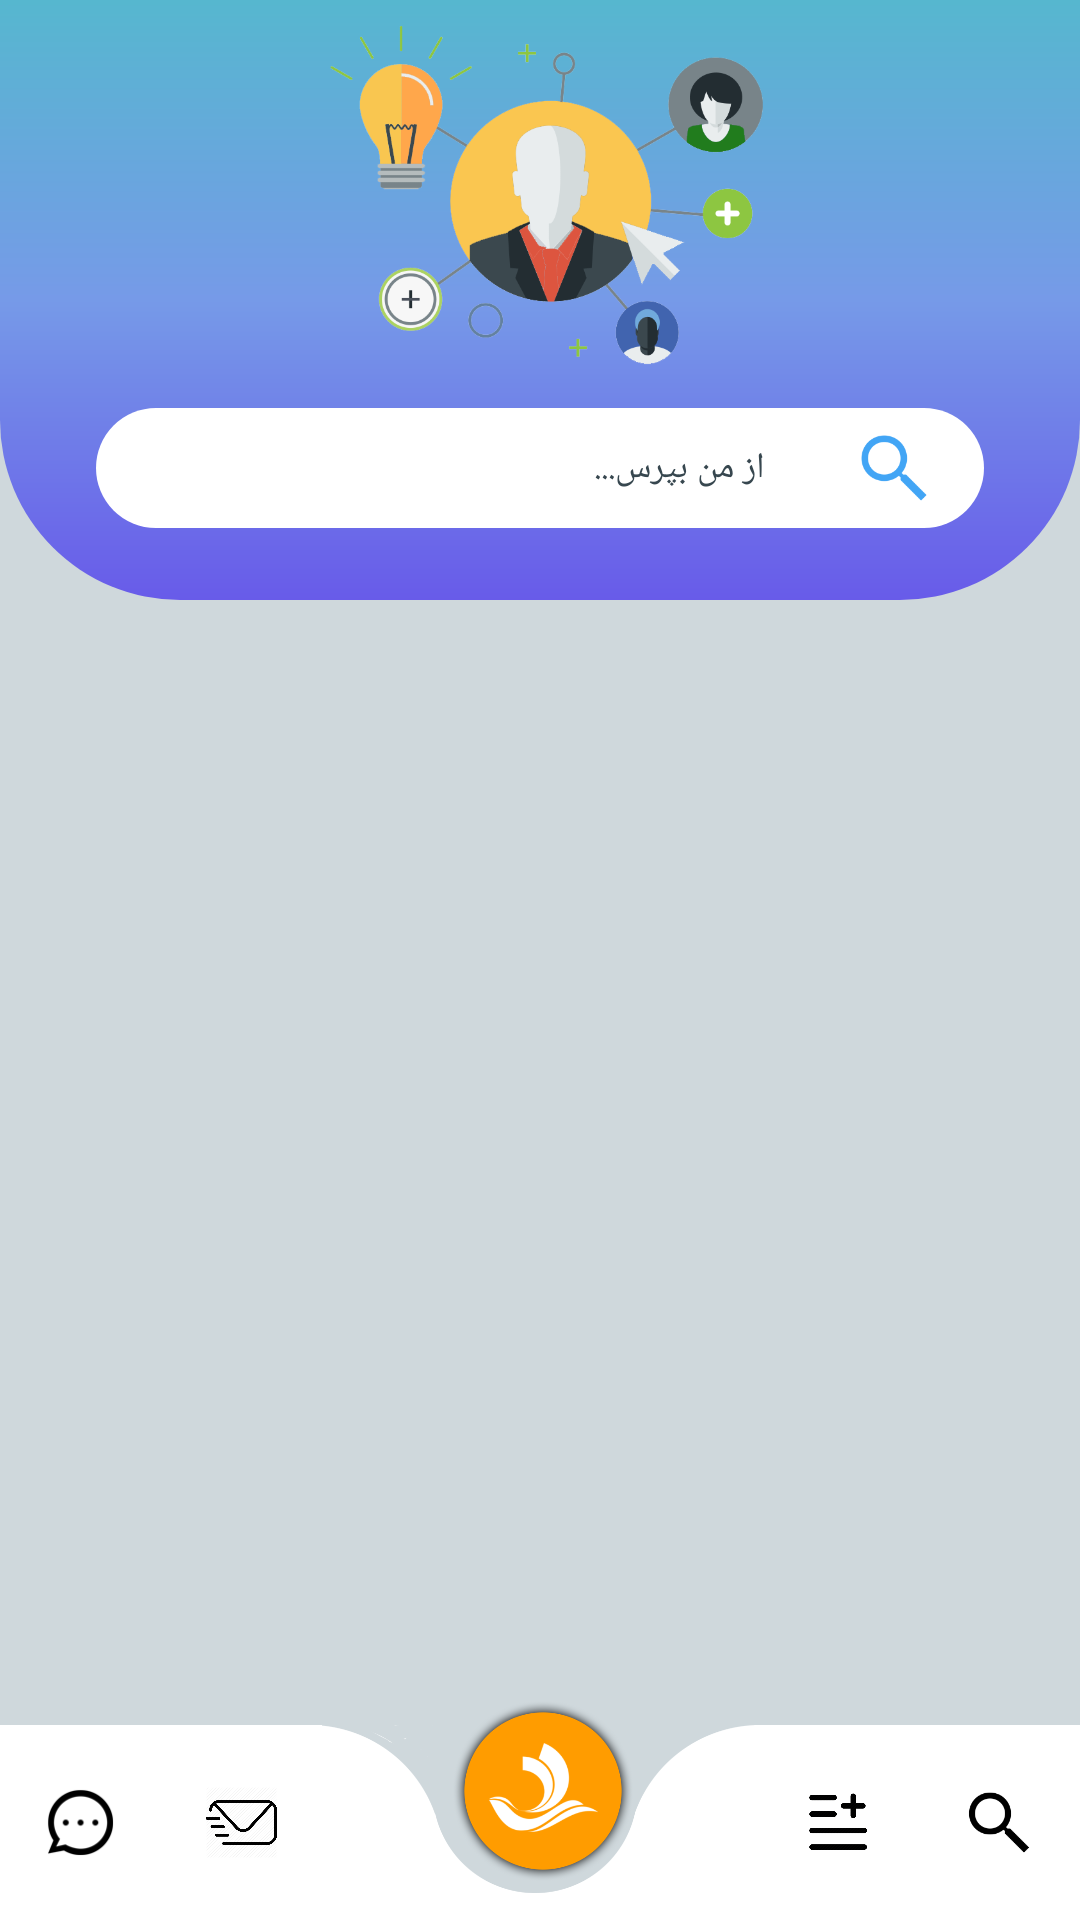

Screen size 1080x1920. Icon name, then its center in pixels as [x,y]:
plus list: [838,1821]
saerch: [894,468], [999,1822]
send message: [241,1822]
